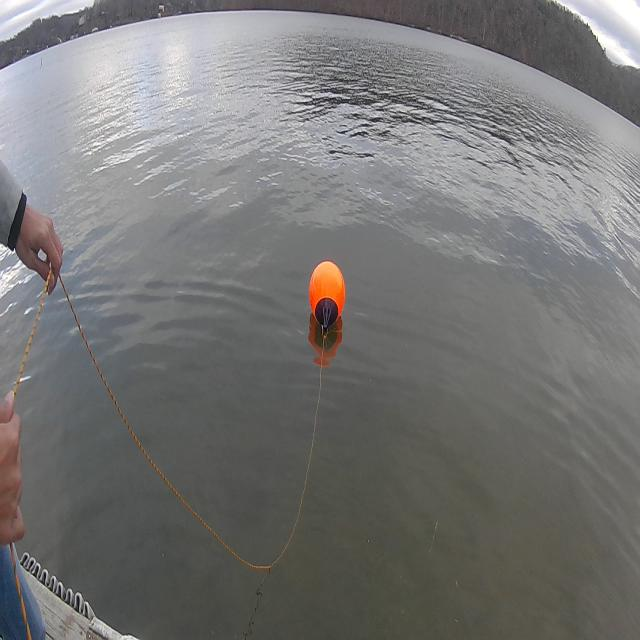Buoy: (304, 246, 353, 352)
